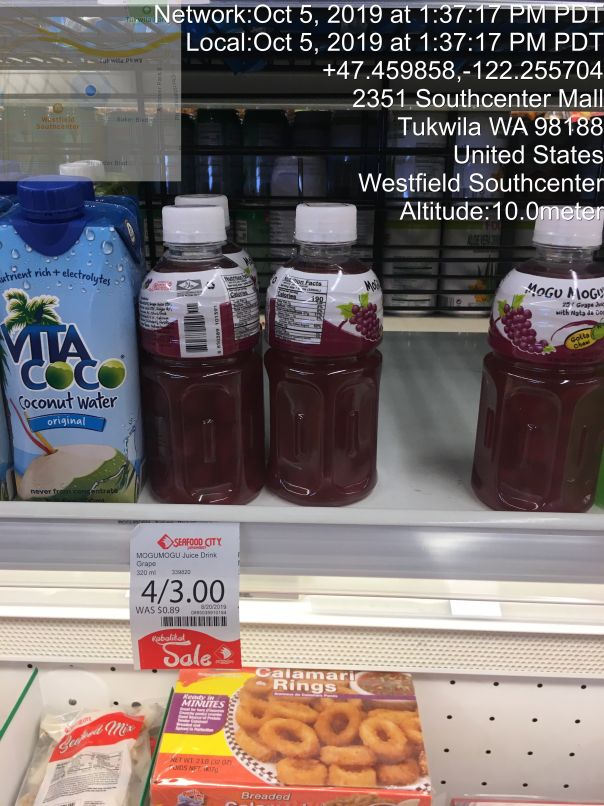Label: (124, 516, 251, 683)
Mogu Juice Drink: (259, 177, 395, 506), (468, 182, 604, 511), (130, 180, 265, 501)
Void: (382, 169, 495, 516)
